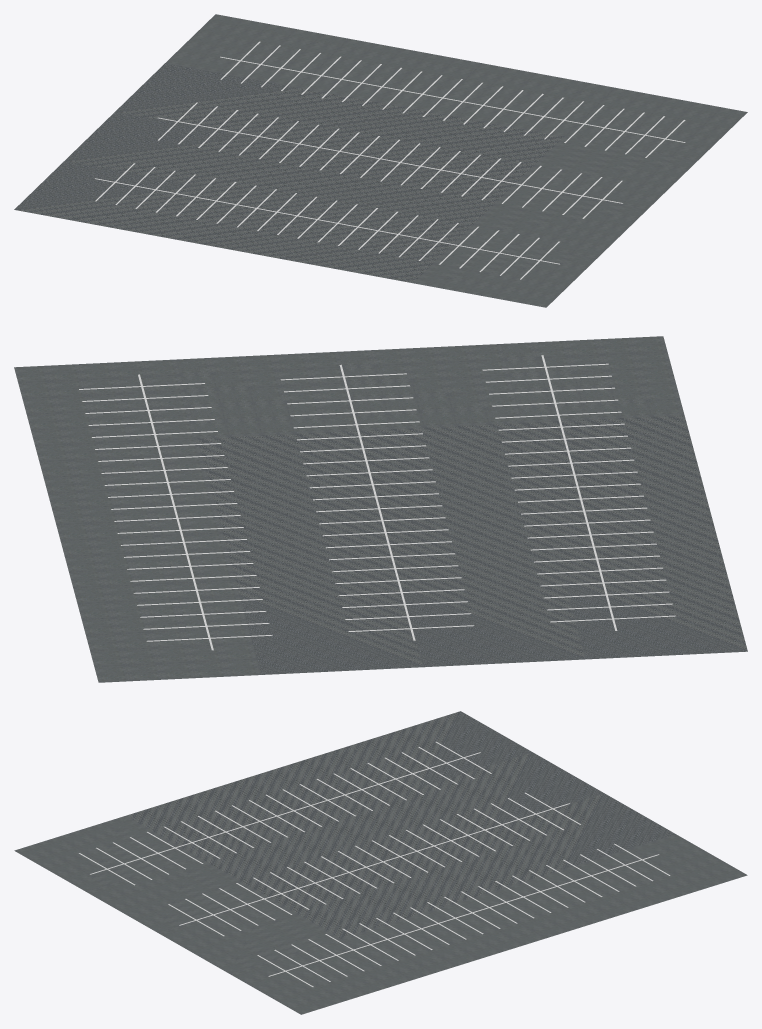
Rendered from tingchechang.gltf.
3 views of the same model, one above another, from view 1: azimuth 30°, elevation 25°; view 2: azimuth 150°, elevation 25°; view 3: azimuth 270°, elevation 25° (orthographic). The views are drawn at different scales.
Visible parts, largest first — view 1: Plane001, Obj3d66-579447-9-77; view 2: Plane001, Obj3d66-579447-9-77; view 3: Plane001, Obj3d66-579447-9-77.
Boxes of the visible parts, box(x1,y1,x2,y2) form: Plane001: box(14, 14, 747, 307); Obj3d66-579447-9-77: box(95, 41, 685, 279); Plane001: box(14, 336, 747, 682); Obj3d66-579447-9-77: box(79, 355, 675, 650); Plane001: box(14, 711, 747, 1014); Obj3d66-579447-9-77: box(79, 741, 670, 986).
Size of the model in its own units: 467 by 0.9262 by 477.
2 materials, 1 textured.
